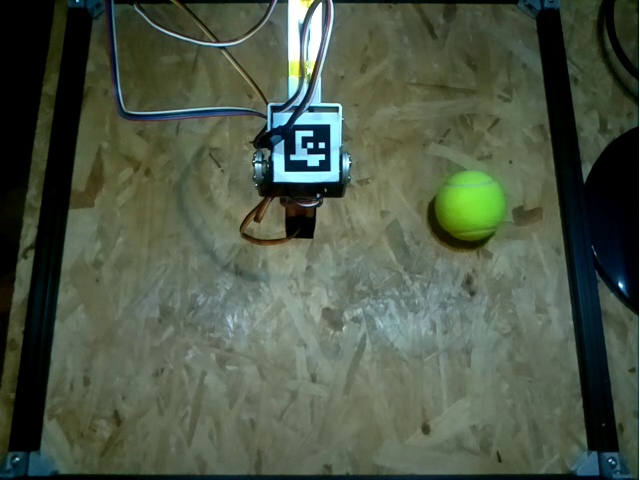tennis_ball: (434, 170, 507, 243)
